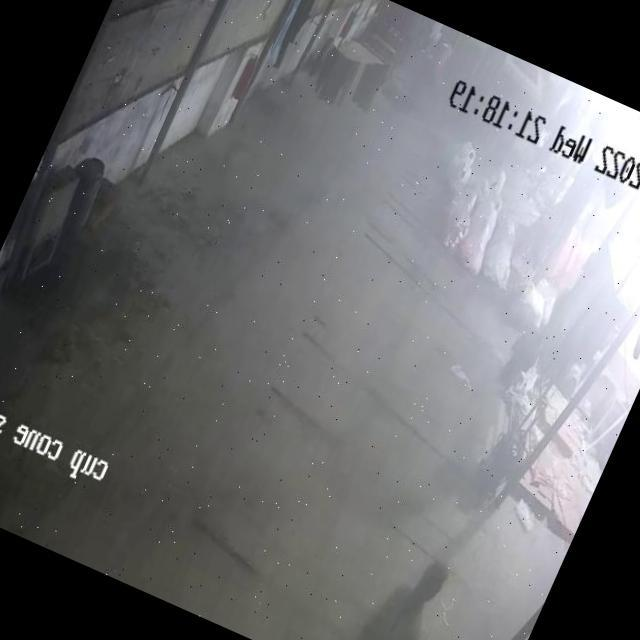person: (330, 538, 455, 640)
